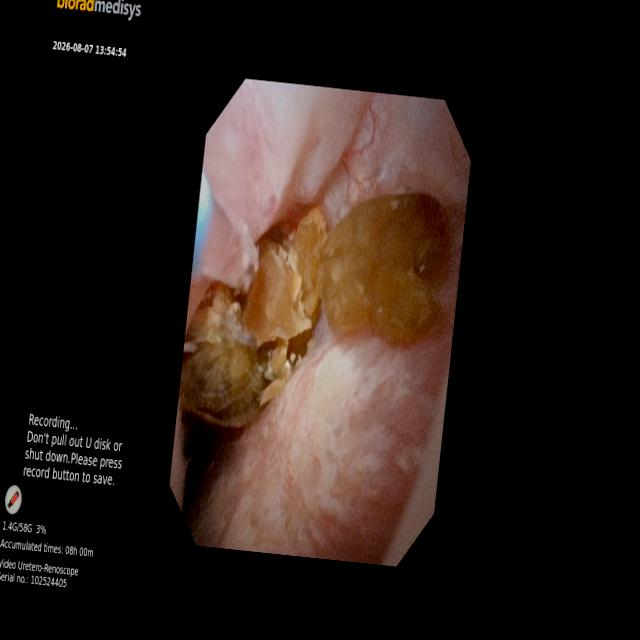laser-fibre: (192, 193, 257, 288)
stone-new: (319, 193, 446, 342), (180, 287, 268, 426), (242, 241, 310, 343), (288, 208, 326, 317)
